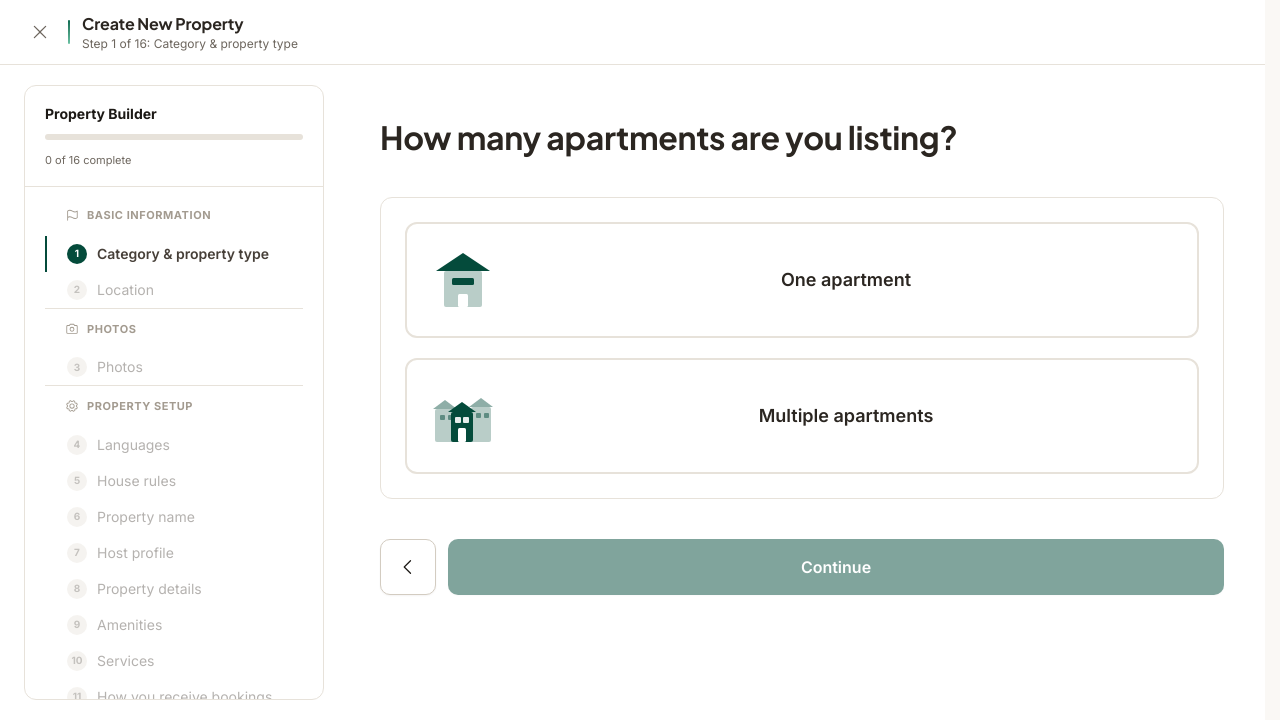
PropertyScopePage — quick-start intro › sends One apartment to the confirmation screen without creating a draft
Click the text "One apartment": (846, 280) [781,269,911,290]
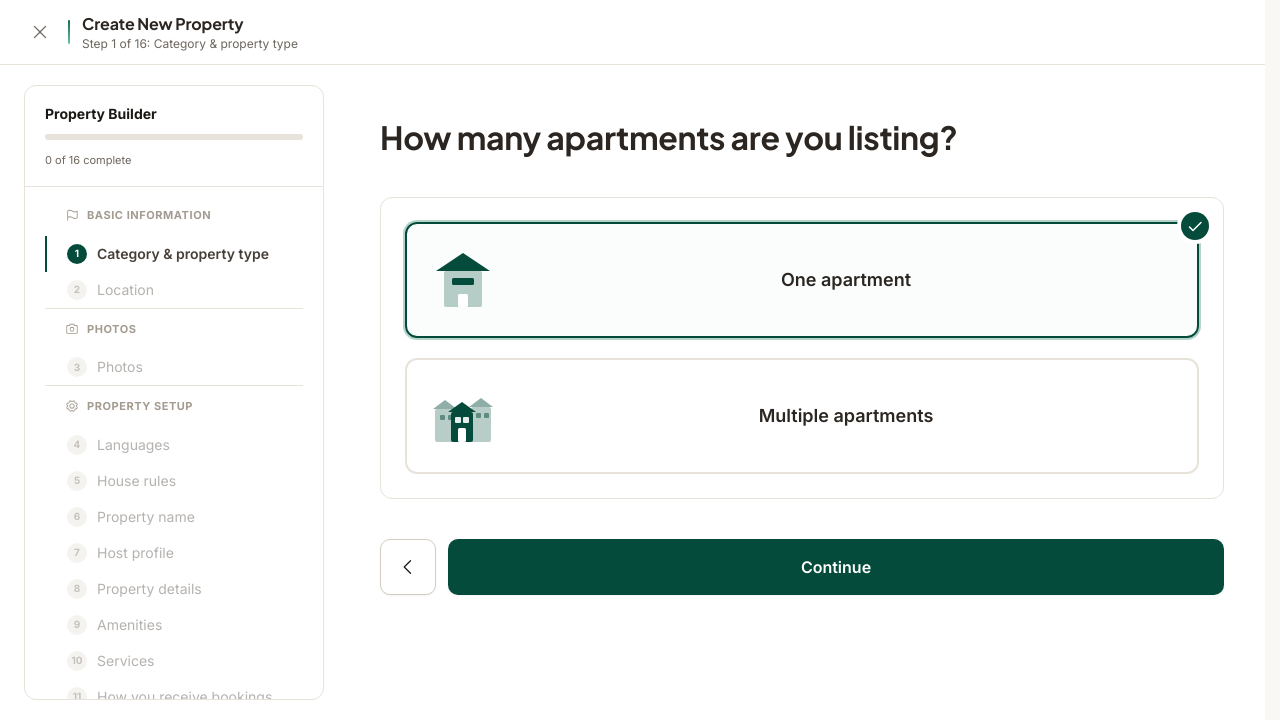
Click the button "Continue": (836, 567) [448,539,1224,595]
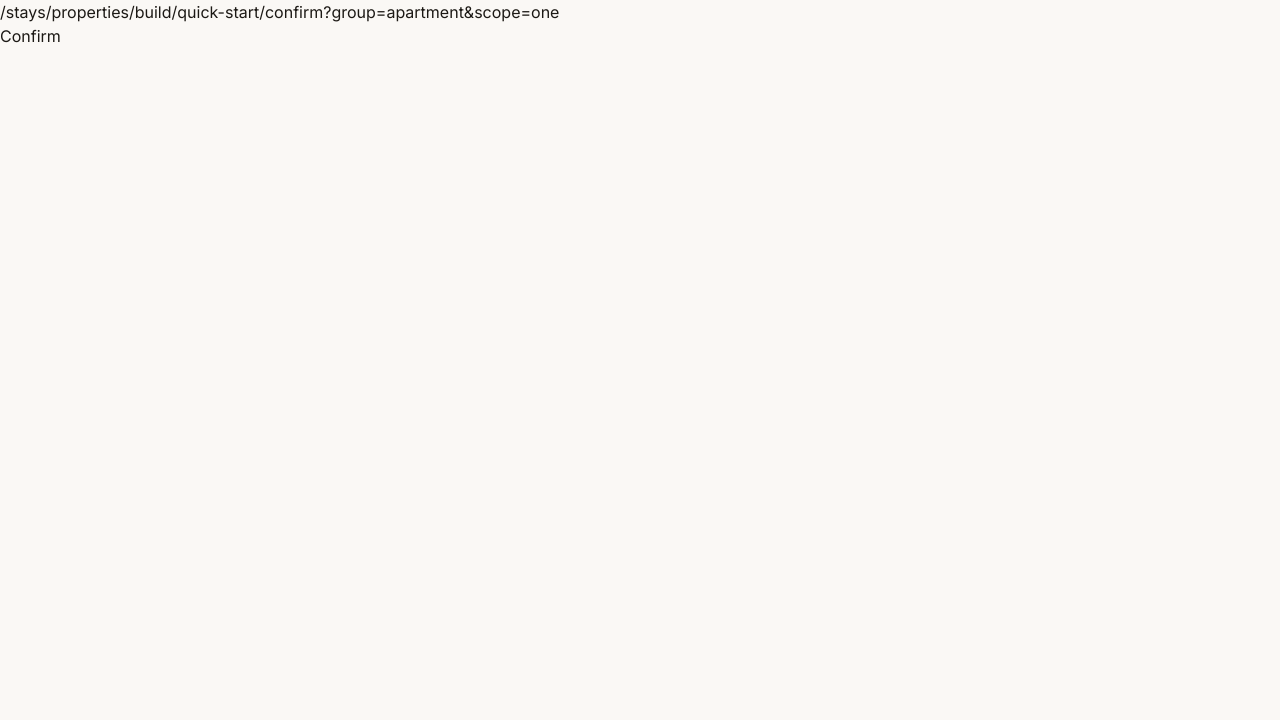
Check: the text with test id "location" reads "/stays/properties/build/quick-start/confirm?group=apartment&scope=one", box [0,2,559,22]
